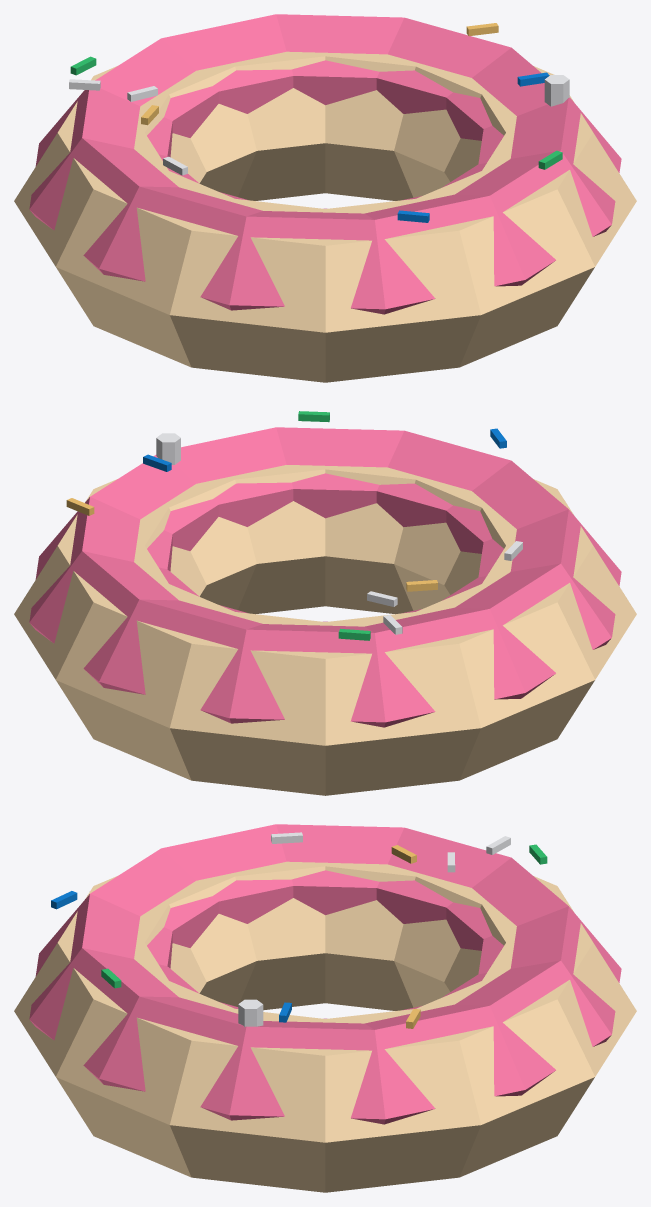
The model's file is schwimmring.glb.
3 views of the same model, one above another, from view 1: azimuth 30°, elevation 25°; view 2: azimuth 150°, elevation 25°; view 3: azimuth 270°, elevation 25° (orthographic).
Visible parts, largest first — view 1: schwimmring-m; view 2: schwimmring-m; view 3: schwimmring-m.
Part boxes in pixels (x1,y1,x2,y2): schwimmring-m: (14, 14, 636, 382); schwimmring-m: (14, 411, 636, 795); schwimmring-m: (14, 824, 636, 1192).
Size of the model in its own units: 1 by 0.3012 by 1.
